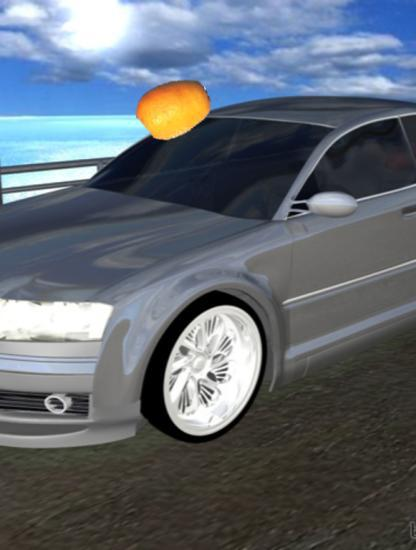Kumquats: (136, 71, 211, 146)
